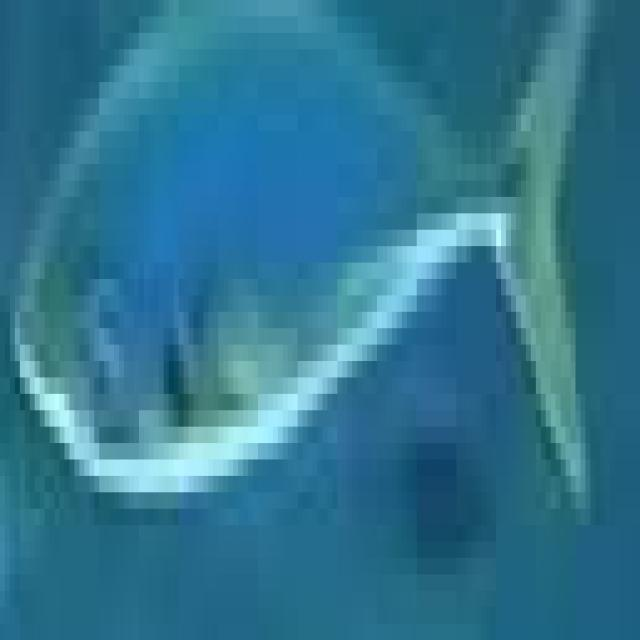fish: (5, 0, 640, 624)
